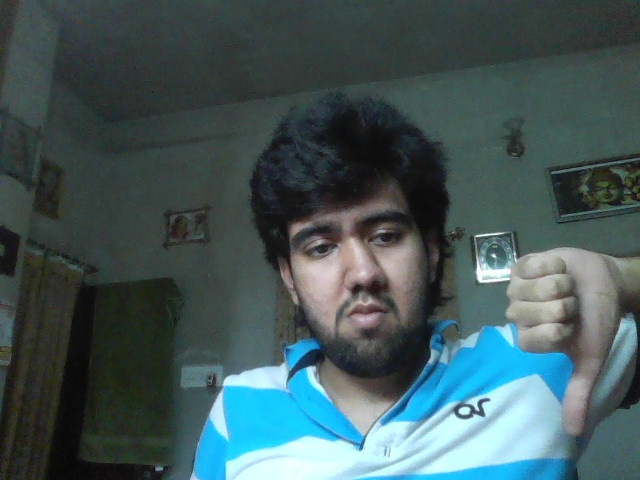NotOk: (505, 247, 618, 437)
